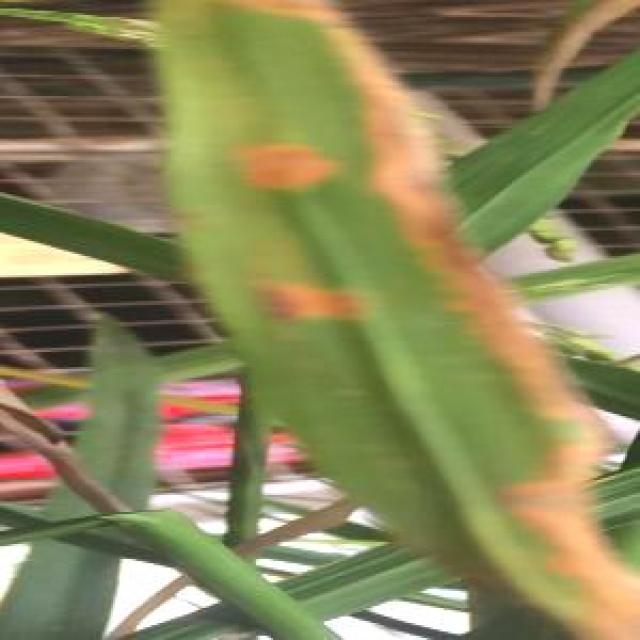Bacterial_Leaf_Blight: (177, 13, 538, 604)
